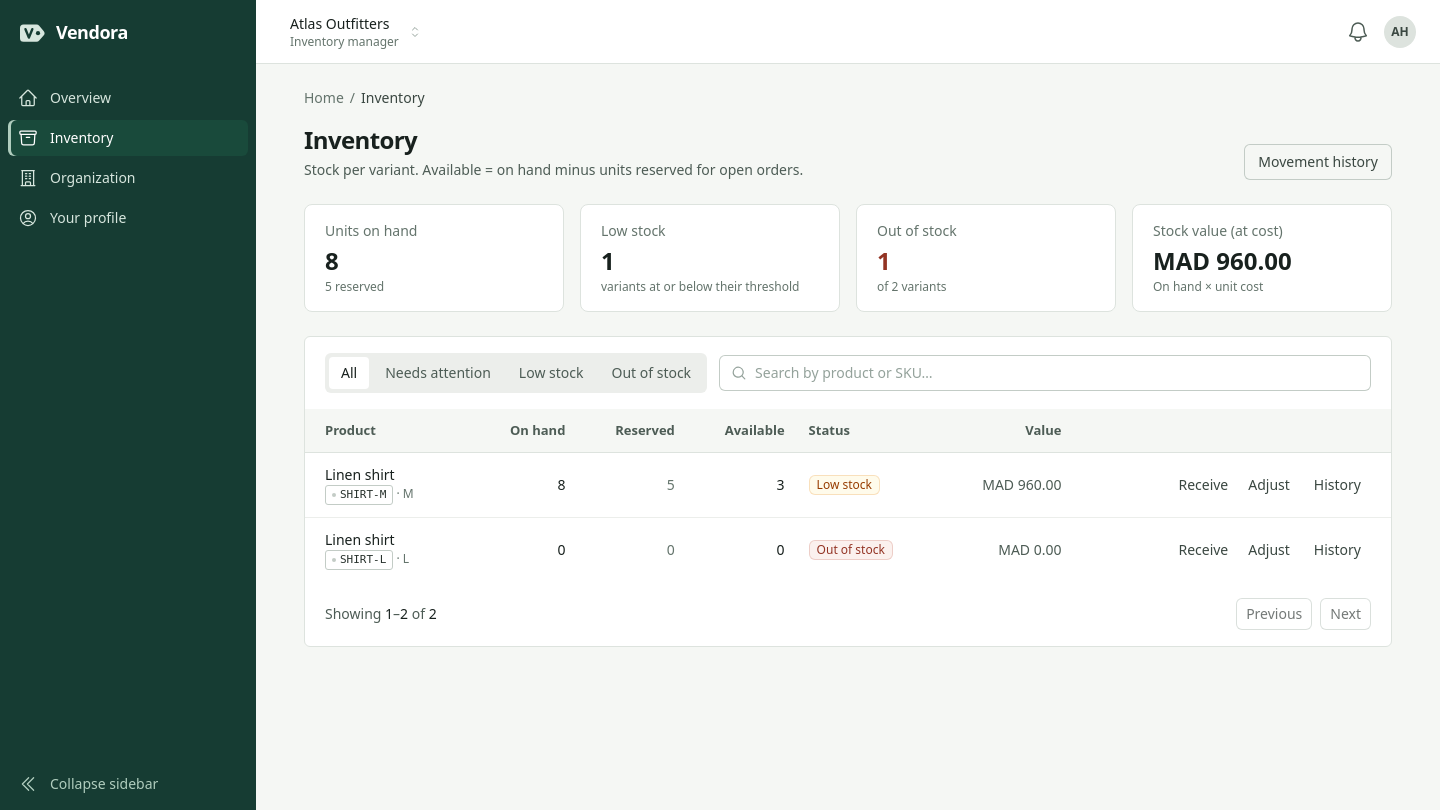
Test: inventory page › a refused adjustment explains why (reserved units)
Click the button with aria-label "Adjust stock for SHIRT-M". click: (1269, 485)
box: [1238,469,1300,501]
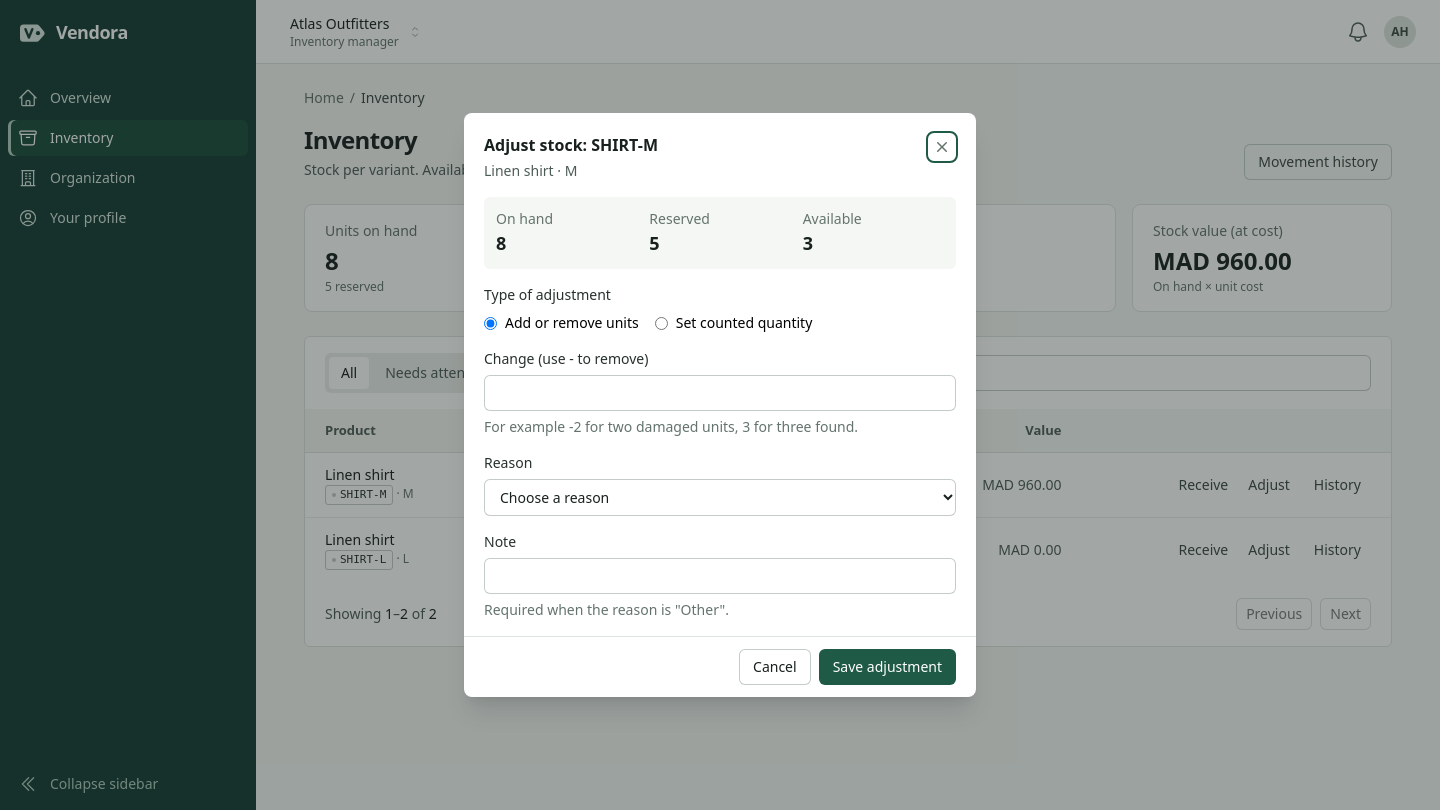
Click the radio button labelled "Set counted quantity". click: (661, 323)
box: [655,316,668,330]
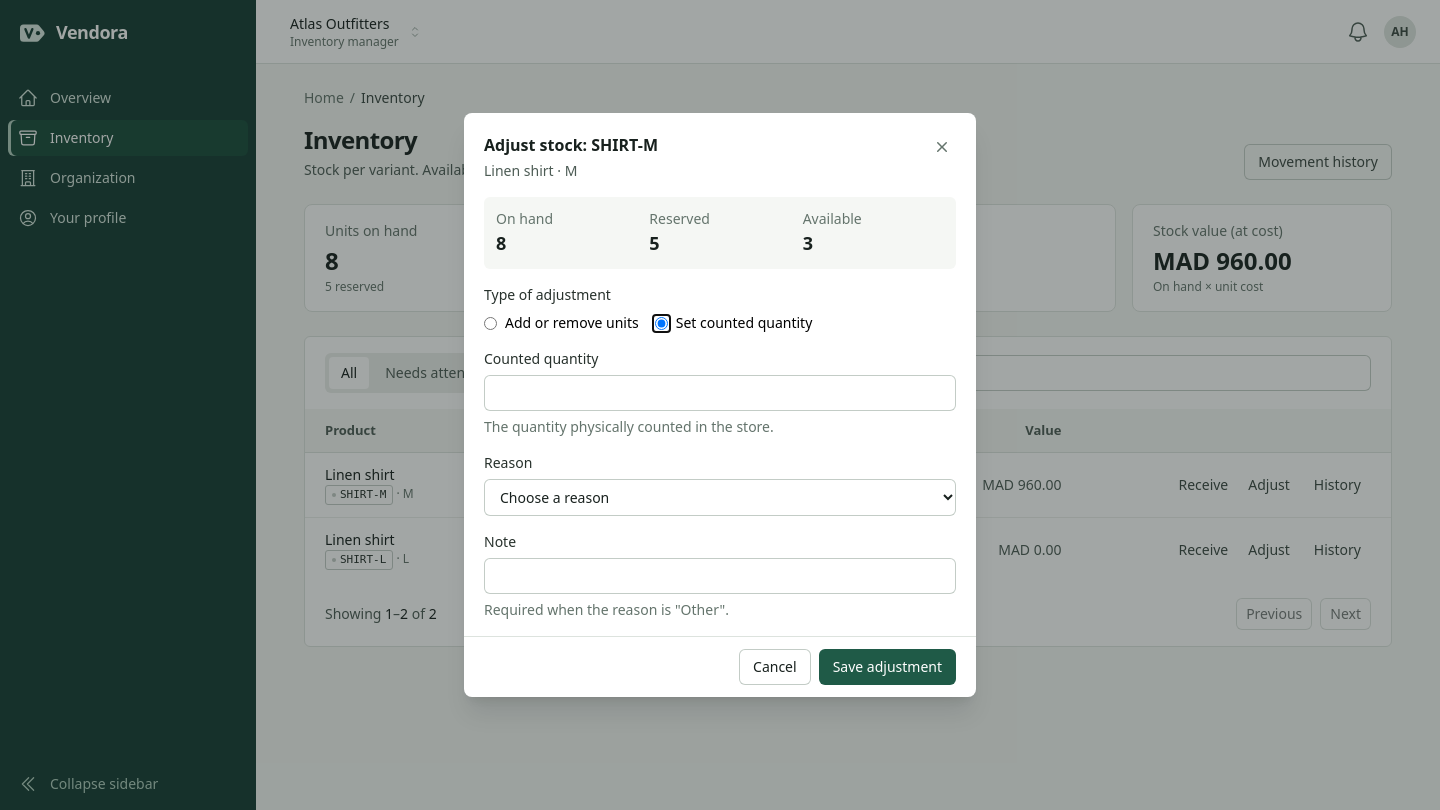
Type "2" into the field labelled "Counted quantity". click: (720, 393)
box: [484,375,956,411]
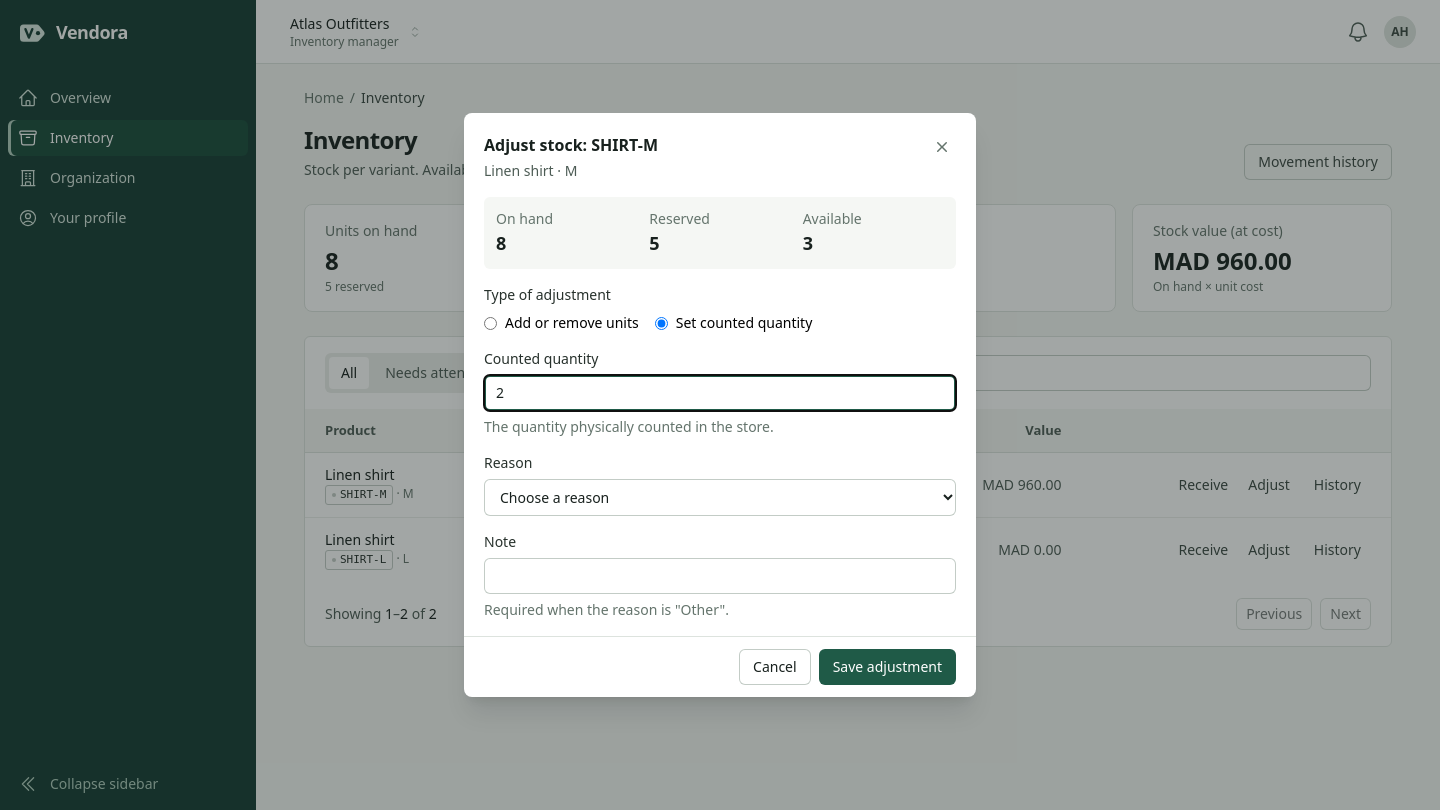
Select "Stock count correction" in the dropdown labelled "Reason". click: (720, 498)
box: [484,479,956,516]
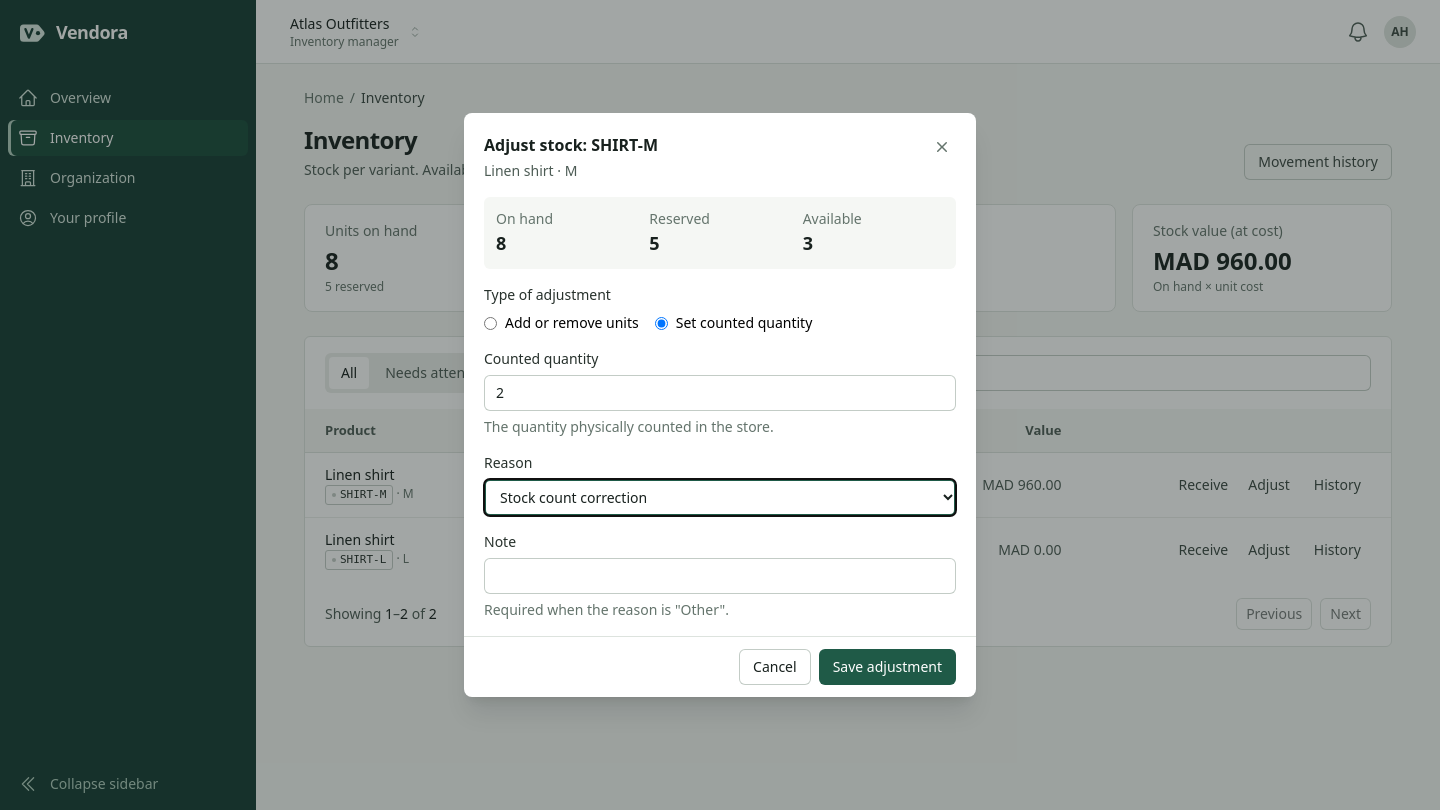
Click the button "Save adjustment". click: (887, 667)
box: [819,649,956,685]
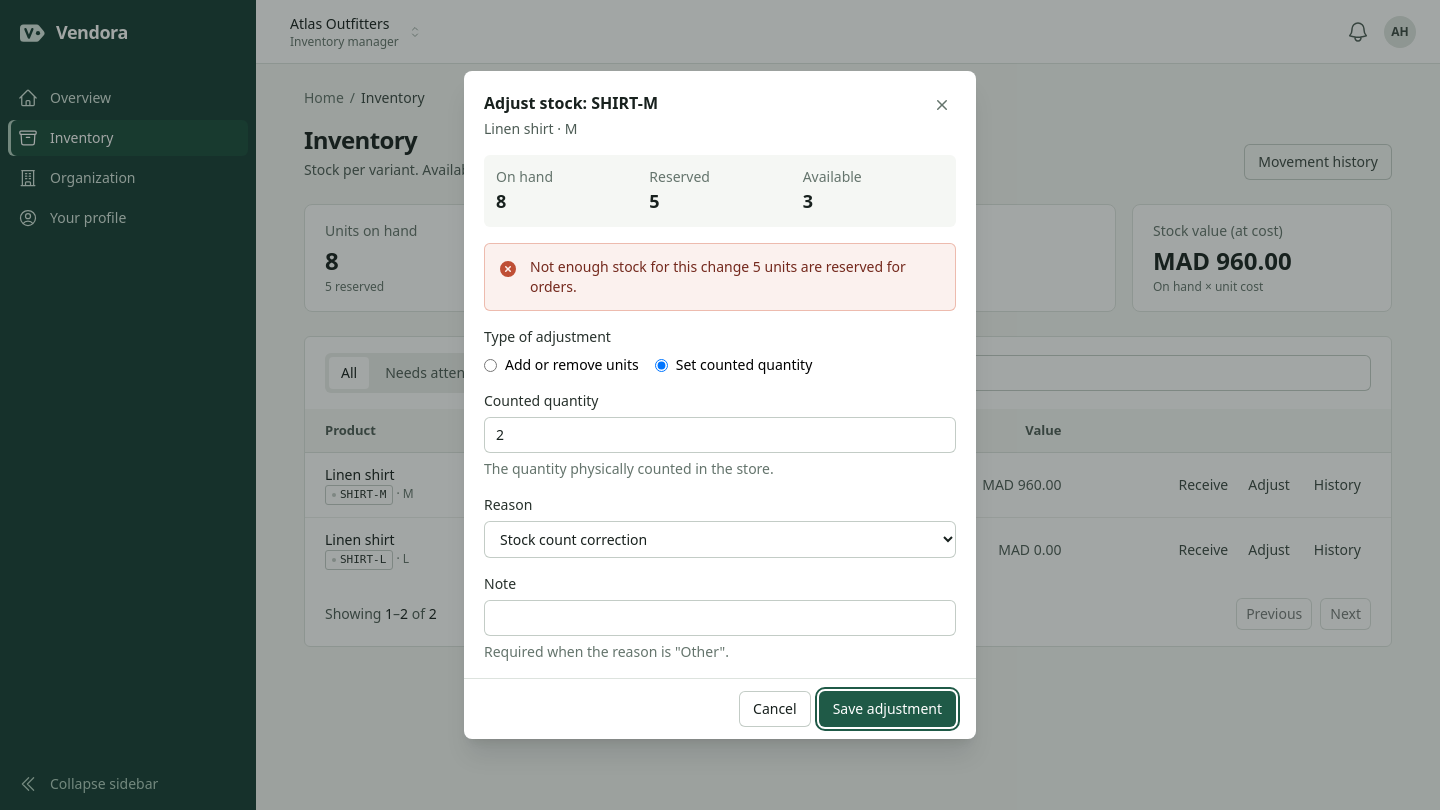
Expected: the message shows "Not enough stock for this change", [530,257,749,276]
Expected: the message shows "5 units are reserved for orders", [530,257,906,296]
